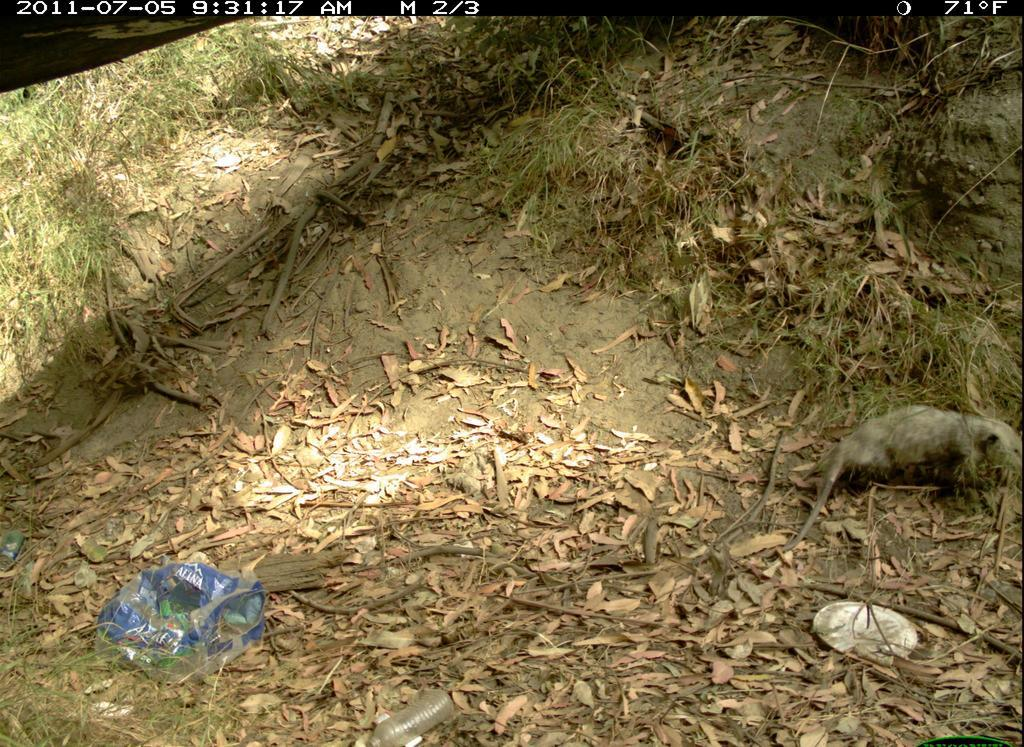opossum: (790, 408, 1023, 545)
